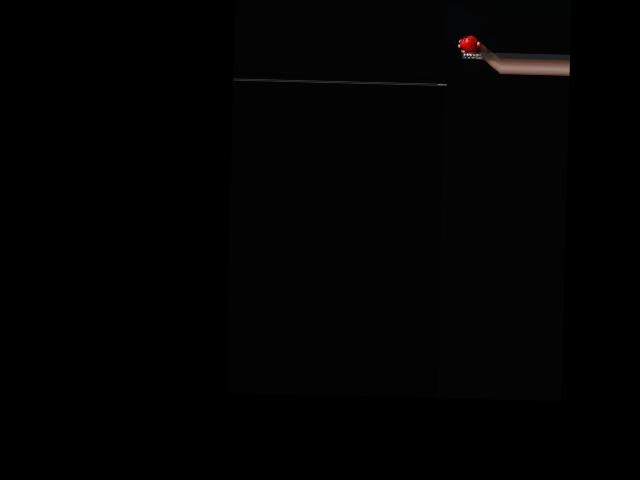tomato: (459, 35, 478, 52)
